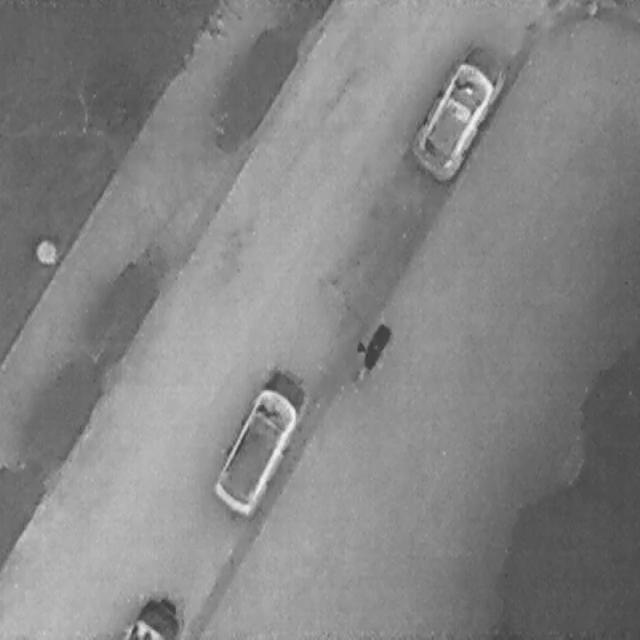Car: (400, 30, 513, 192), (204, 360, 312, 521), (123, 595, 181, 636)
